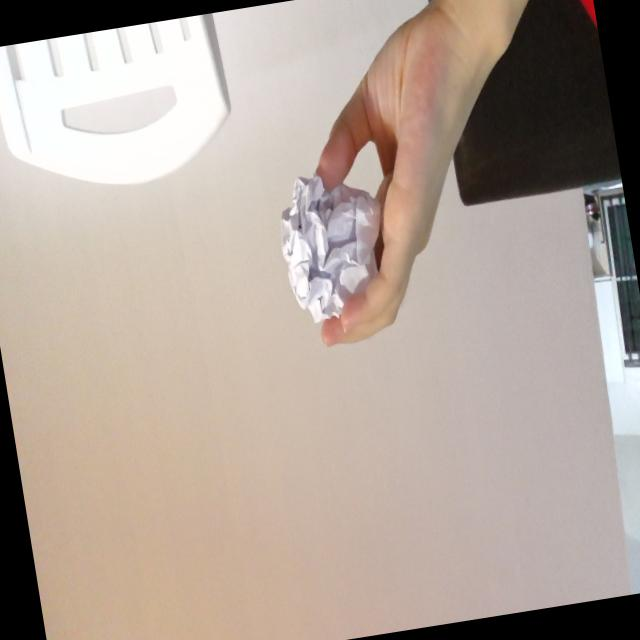crumpled_paper: (269, 163, 400, 334)
